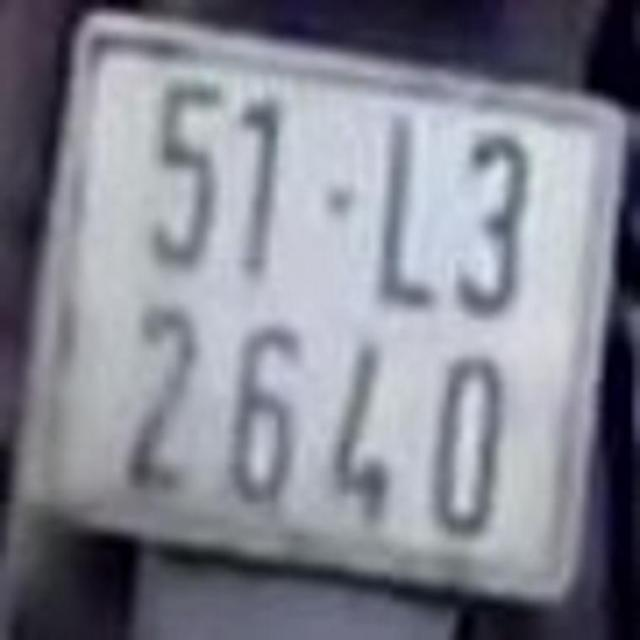0: (426, 344, 505, 538)
1: (232, 85, 284, 280)
2: (119, 299, 193, 495)
3: (449, 127, 535, 322)
4: (324, 331, 399, 527)
5: (148, 70, 227, 268)
6: (224, 313, 302, 506)
L: (374, 107, 437, 312)
